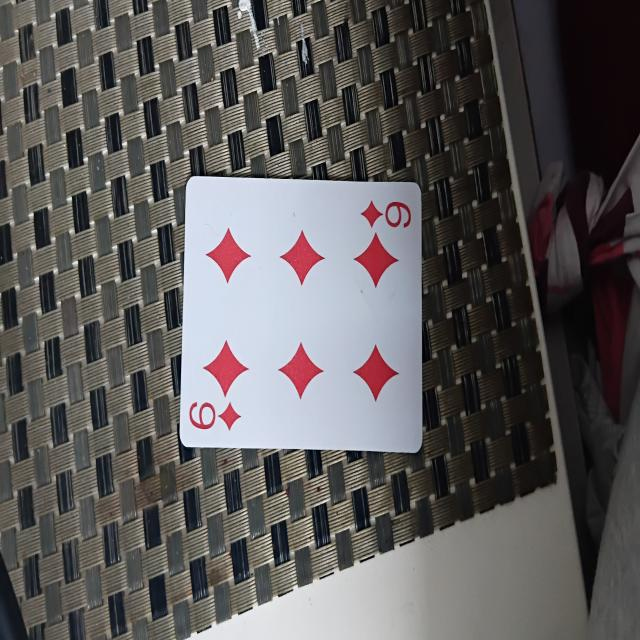6D: (187, 185, 422, 453)
